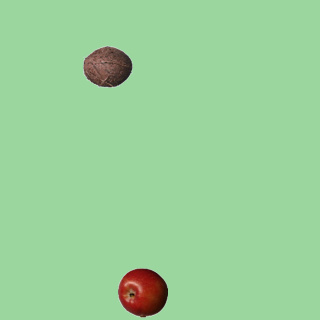Apple Braeburn: (117, 267, 167, 317)
Cocos: (82, 41, 132, 91)
